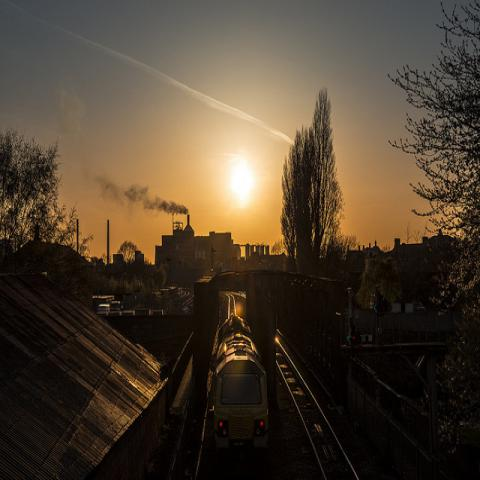truck: (95, 301, 121, 316)
